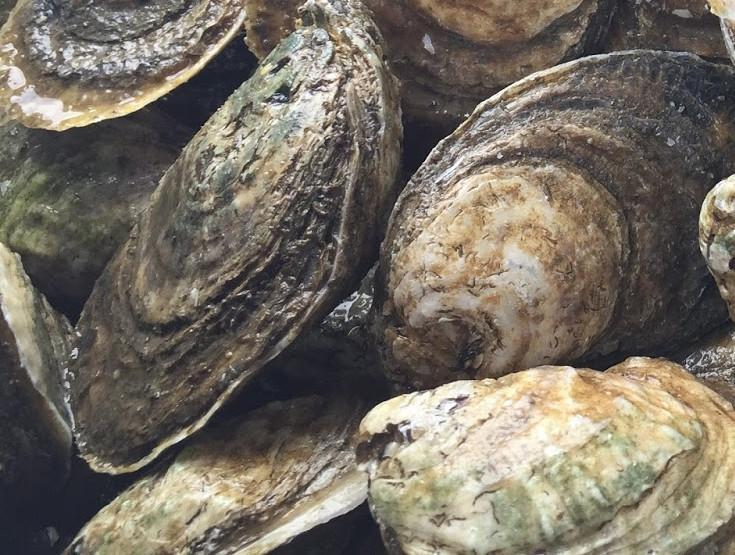3: (63, 0, 404, 475), (58, 393, 380, 555)
Oyster-Closed: (369, 49, 735, 399), (358, 355, 735, 555), (0, 105, 197, 308), (0, 0, 256, 131), (0, 244, 75, 541)
Oyster-Open: (245, 0, 617, 128), (215, 262, 389, 425), (596, 0, 730, 57), (697, 174, 735, 327)
